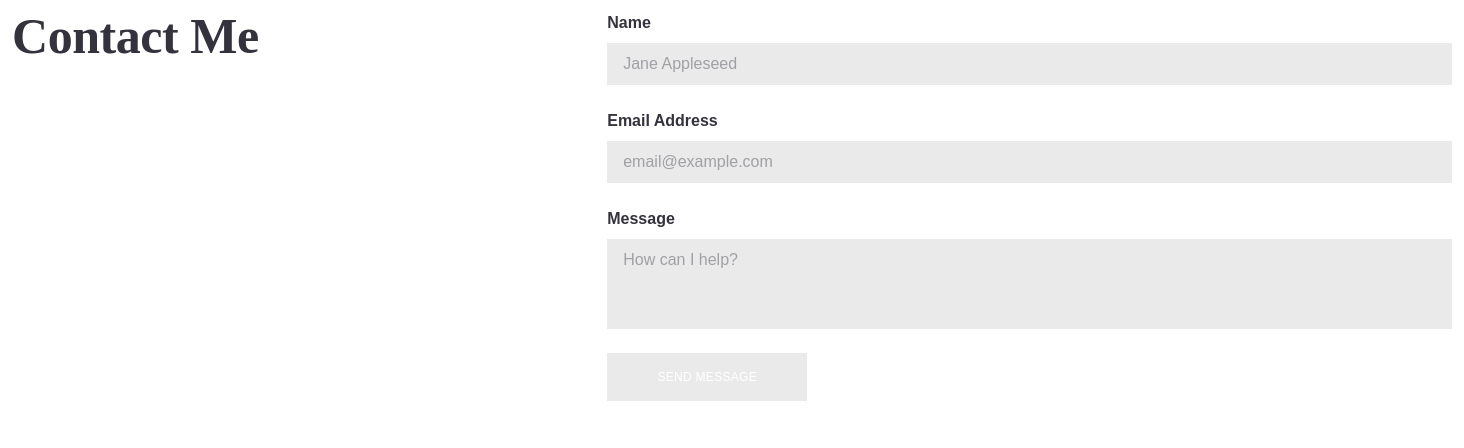
ContactForm › sets and clears error message for message input
This screenshot has width=1464, height=448.
Step 1. Clear the text box labelled "Message" → (1030, 284), box top-left (607, 239), bottom-right (1452, 329)
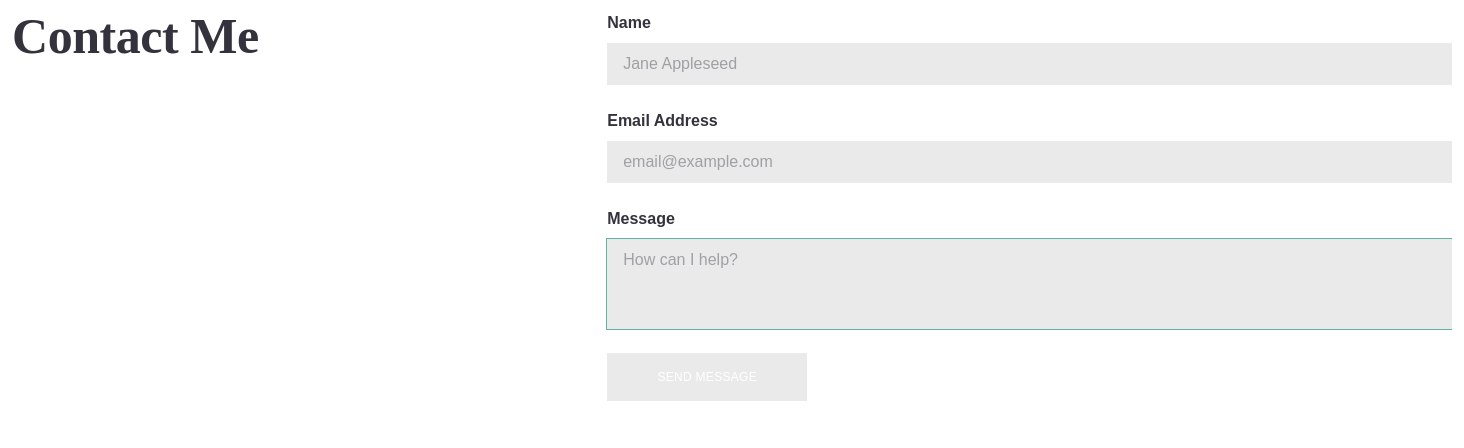
Step 2. Press Tab
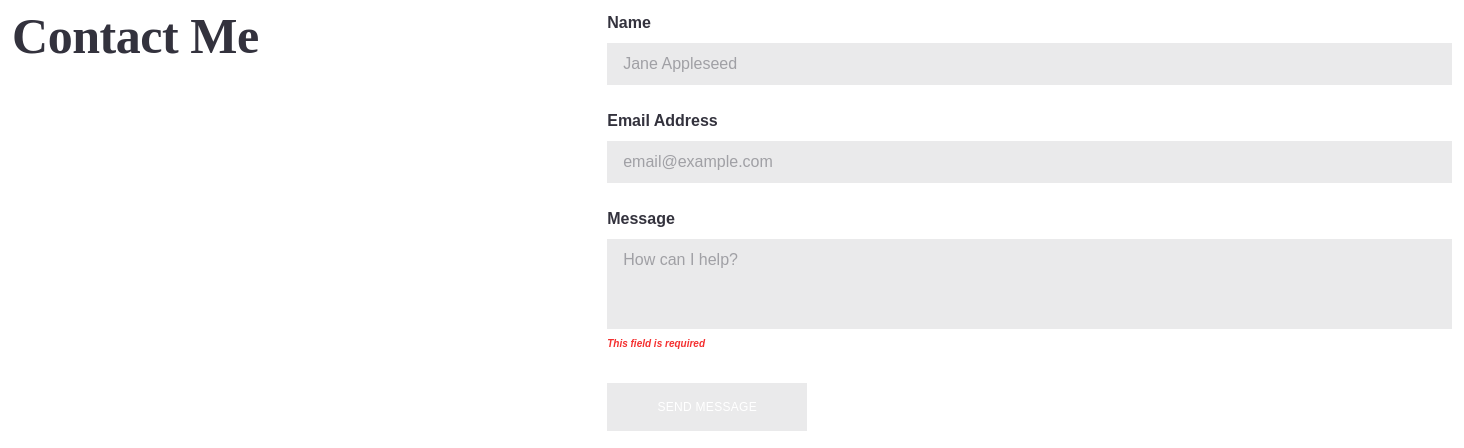
Result: the text "This field is required" is shown once at top-left (607, 338), bottom-right (705, 349)
Step 3. Type "Jane" into the text box labelled "Message" → (1030, 284), box top-left (607, 239), bottom-right (1452, 329)
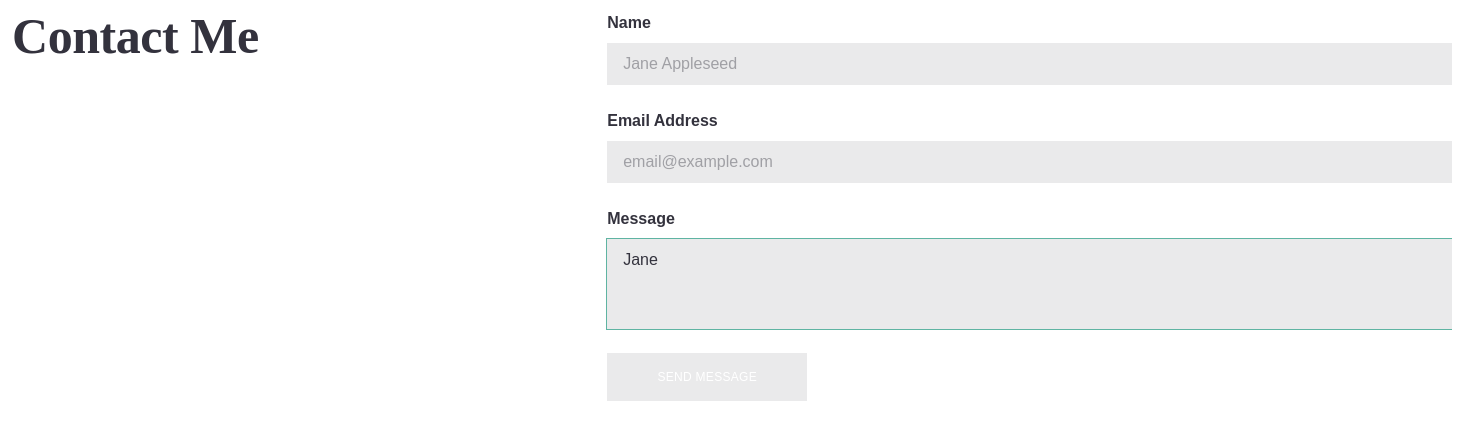
Result: the text "This field is required" is not shown
